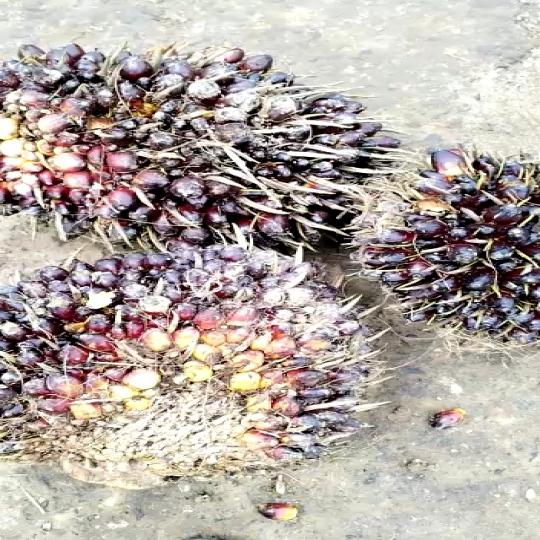kurang masak: (0, 236, 391, 498), (0, 19, 379, 256), (375, 151, 540, 355)
